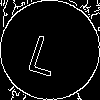L: (25, 25, 66, 77)
